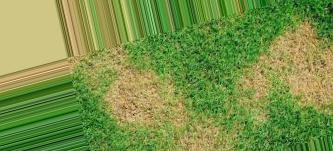patch: (283, 42, 331, 103), (116, 78, 163, 119), (174, 128, 233, 150)
